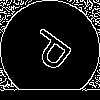P: (25, 25, 82, 79)
